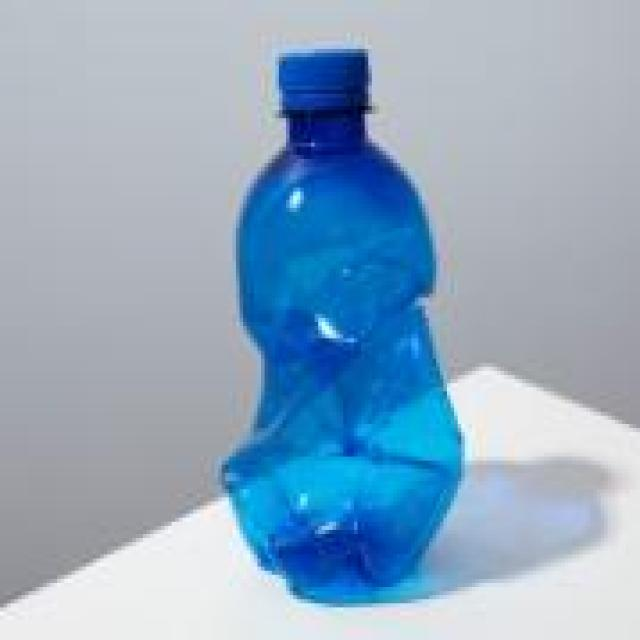chai: (223, 50, 463, 599)
